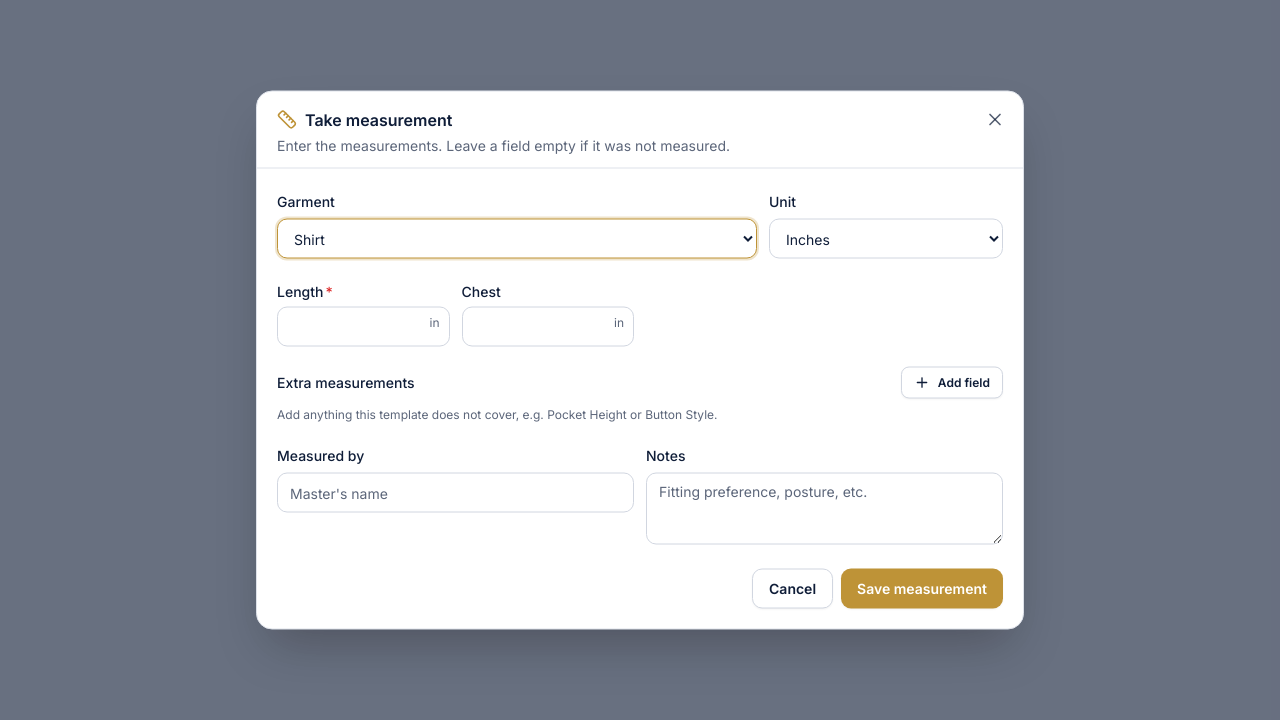
Scenario: MeasurementFormDialog › shows only active fields and blocks saving without required values
The width and height of the screenshot is (1280, 720).
Expected: the field labelled "Length*" is shown, [277,306,450,346]
Click the button "Save measurement": (922, 588) [841,568,1003,608]
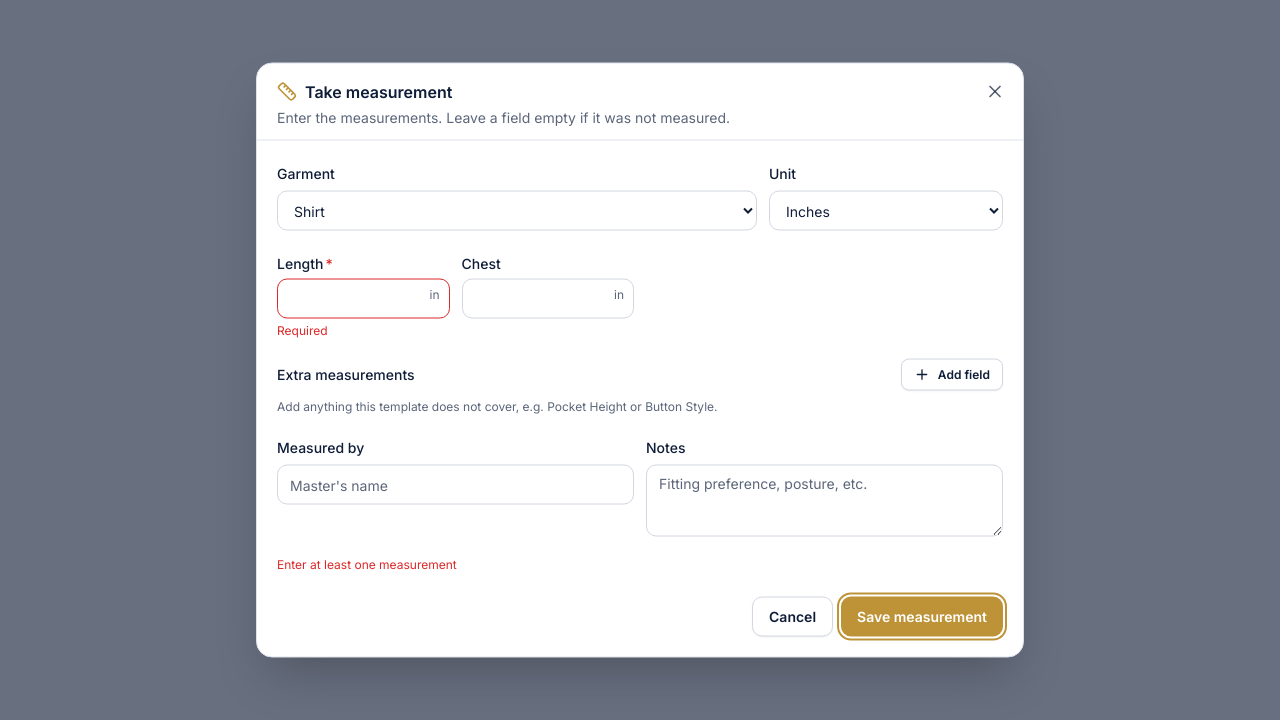
Expected: the text "Required" is shown, [277,322,328,338]
